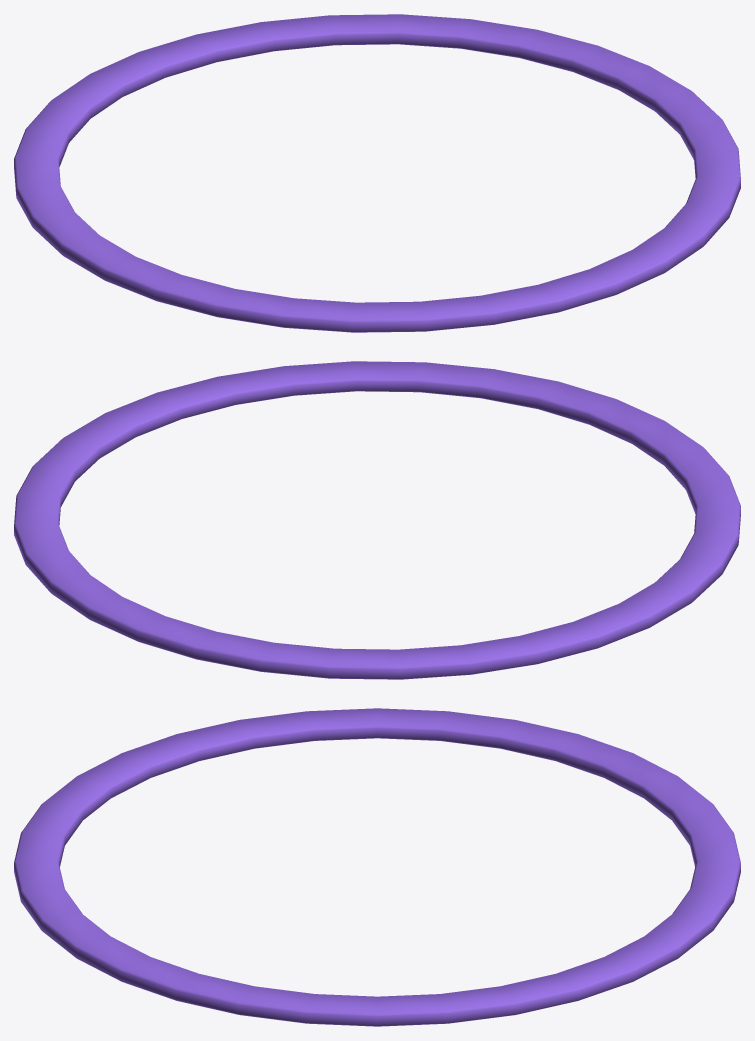
The model's file is purple_ring.glb.
3 views of the same model, one above another, from view 1: azimuth 30°, elevation 25°; view 2: azimuth 150°, elevation 25°; view 3: azimuth 270°, elevation 25° (orthographic).
Visible parts, largest first — view 1: Circle; view 2: Circle; view 3: Circle.
Part boxes in pixels (x1,y1,x2,y2): Circle: (14, 14, 740, 332); Circle: (14, 361, 740, 679); Circle: (14, 708, 740, 1026).
Size of the model in its own units: 2.38 by 0.0467 by 2.38.
